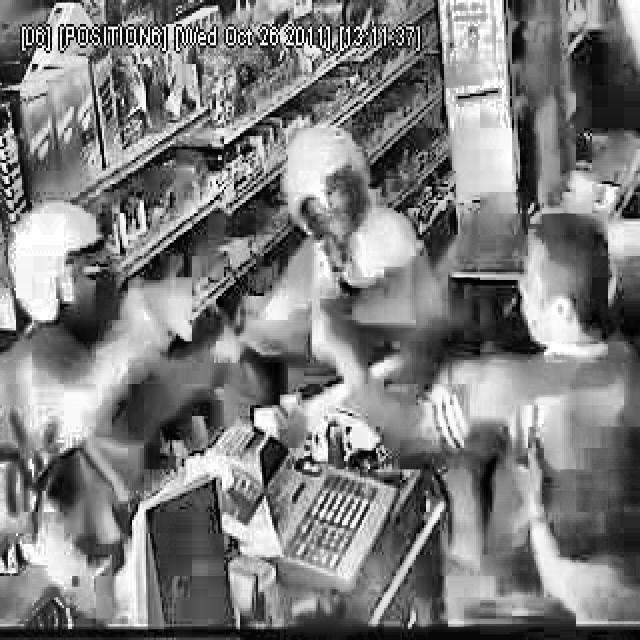robbery: (0, 190, 213, 558), (243, 121, 454, 423)
